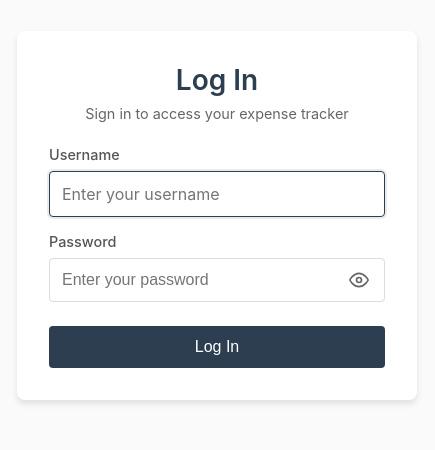
Scenario: LoginPage › Form validation › clears field errors when user starts typing
The image size is (435, 450).
Expected: the field labelled "Username" is shown, top-left (49, 170), bottom-right (385, 216)
Click the button "Log In" at (217, 346), box top-left (49, 326), bottom-right (385, 368)
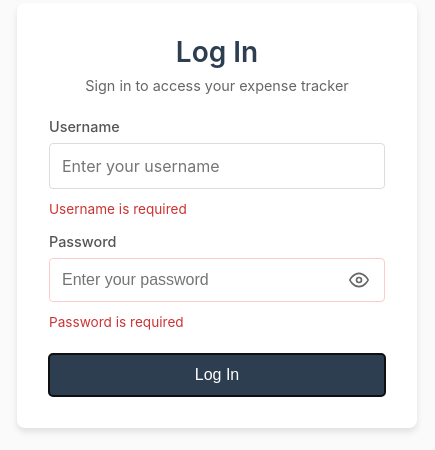
Expected: the text "Username is required" is shown, top-left (49, 200), bottom-right (187, 216)
Type "a" into the field labelled "Username" at (217, 166), box top-left (49, 142), bottom-right (385, 188)
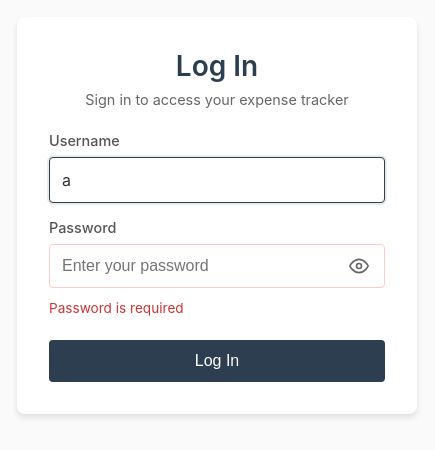
Expected: the text "Username is required" is gone
